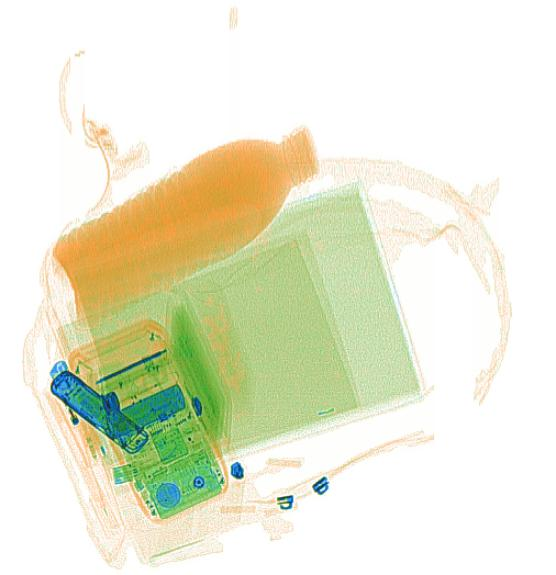battery: (100, 385, 185, 441)
lighter: (46, 358, 107, 460)
